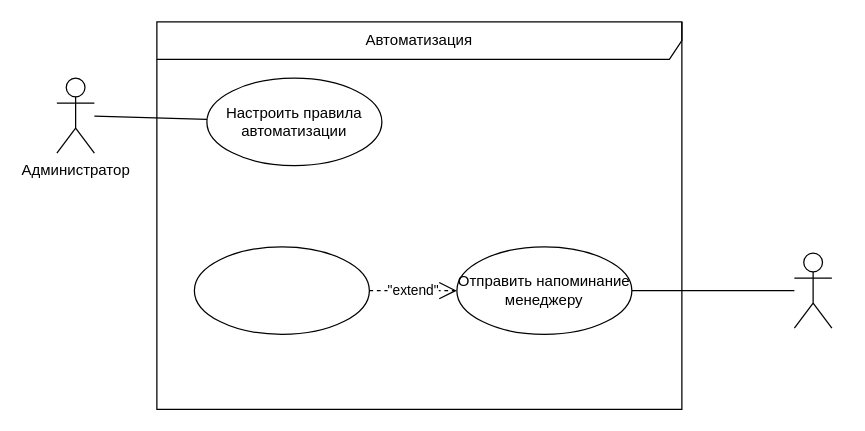
Some shapes in this 865 by 431 pixel diagram are drawn without their labels. The box of each missing label's shape, as (x1, y1, x2, y2) in pixels:
Отправить сообщение туристу: (193, 246, 369, 334)
Система: (793, 252, 832, 328)
